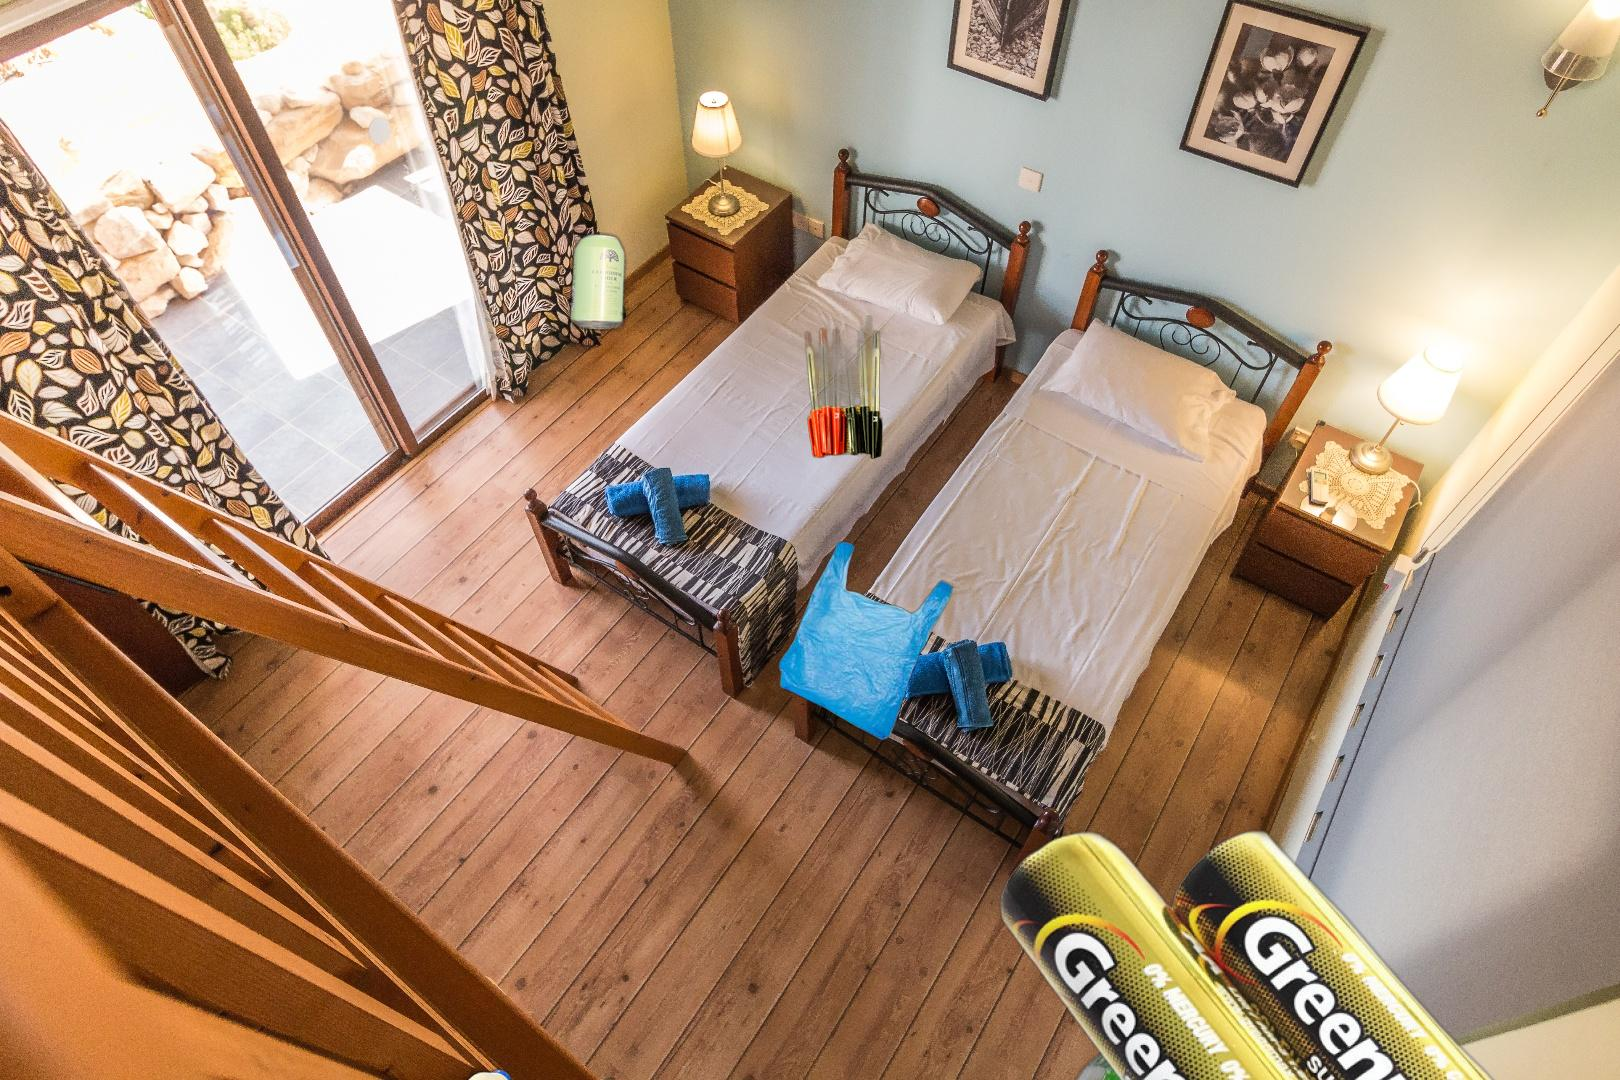battery: (994, 824, 1592, 1080)
metal-cans: (359, 1005, 771, 1080), (565, 202, 705, 347)
penholder: (656, 996, 1432, 1080), (800, 315, 917, 463)
plastic-bag: (776, 539, 956, 742)
plastic-bottles: (399, 918, 621, 1080)
